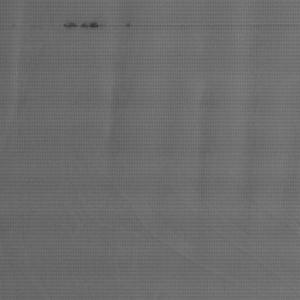Stain: (53, 17, 137, 36)
